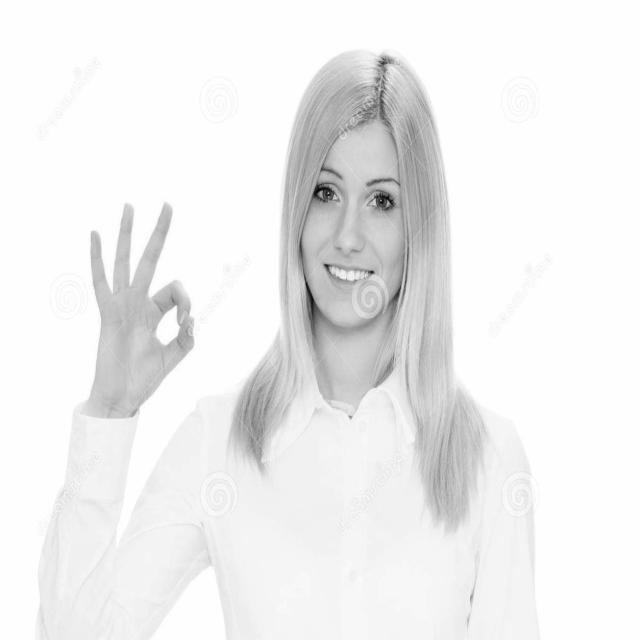perfect: (76, 188, 202, 413)
